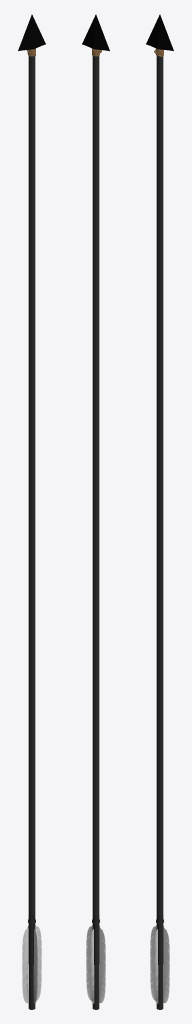
Rendered from Arrow.glb.
3 renders of one model, left to right at view 1: azimuth 30°, elevation 25°; view 2: azimuth 150°, elevation 25°; view 3: azimuth 330°, elevation 25°, orthographic.
Visible parts, largest first — view 1: NormalArrow; view 2: NormalArrow; view 3: NormalArrow.
Boxes of the visible parts, x1=… form: NormalArrow: x1=18, y1=14, x2=45, y2=1009; NormalArrow: x1=82, y1=14, x2=109, y2=1009; NormalArrow: x1=146, y1=14, x2=173, y2=1009.
Size of the model in its own units: 0.0293 by 0.9808 by 0.02.
Materials: 4 (1 with a texture image).
